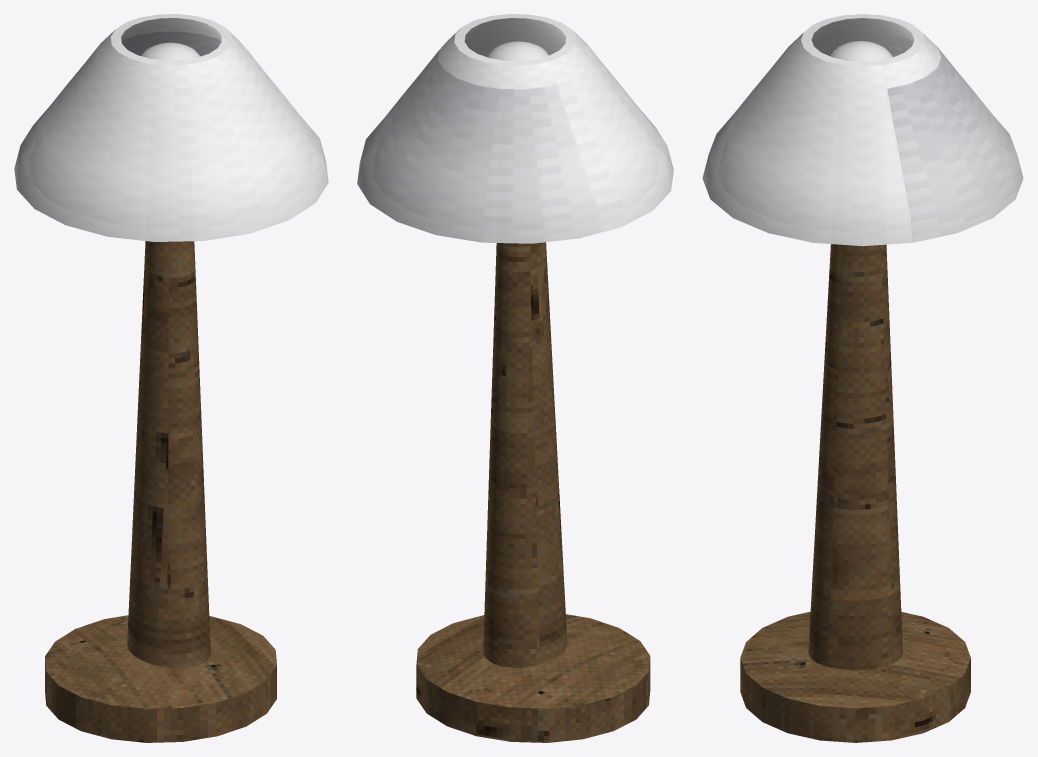
File: Lampadina_Grande.fbx
The picture shows the model from 3 angles, left to right: view 1: azimuth 30°, elevation 25°; view 2: azimuth 150°, elevation 25°; view 3: azimuth 270°, elevation 25°; orthographic projection.
Visible parts, largest first — view 1: lampada1.002, lampada1, lampada1.001, lampada1.003; view 2: lampada1.002, lampada1, lampada1.001, lampada1.003; view 3: lampada1.002, lampada1, lampada1.001, lampada1.003.
Part boxes in pixels (x1,y1,x2,y2): lampada1.002: [14, 14, 328, 241]; lampada1: [127, 241, 210, 668]; lampada1.001: [45, 615, 276, 742]; lampada1.003: [141, 42, 200, 60]; lampada1.002: [357, 14, 673, 243]; lampada1: [483, 242, 567, 667]; lampada1.001: [416, 614, 650, 742]; lampada1.003: [487, 41, 548, 60]; lampada1.002: [702, 14, 1023, 246]; lampada1: [808, 244, 902, 669]; lampada1.001: [740, 611, 970, 742]; lampada1.003: [829, 41, 893, 61].
Size of the model in its own units: 0.3876 by 0.8784 by 0.3876.
3 materials, 2 textured.
